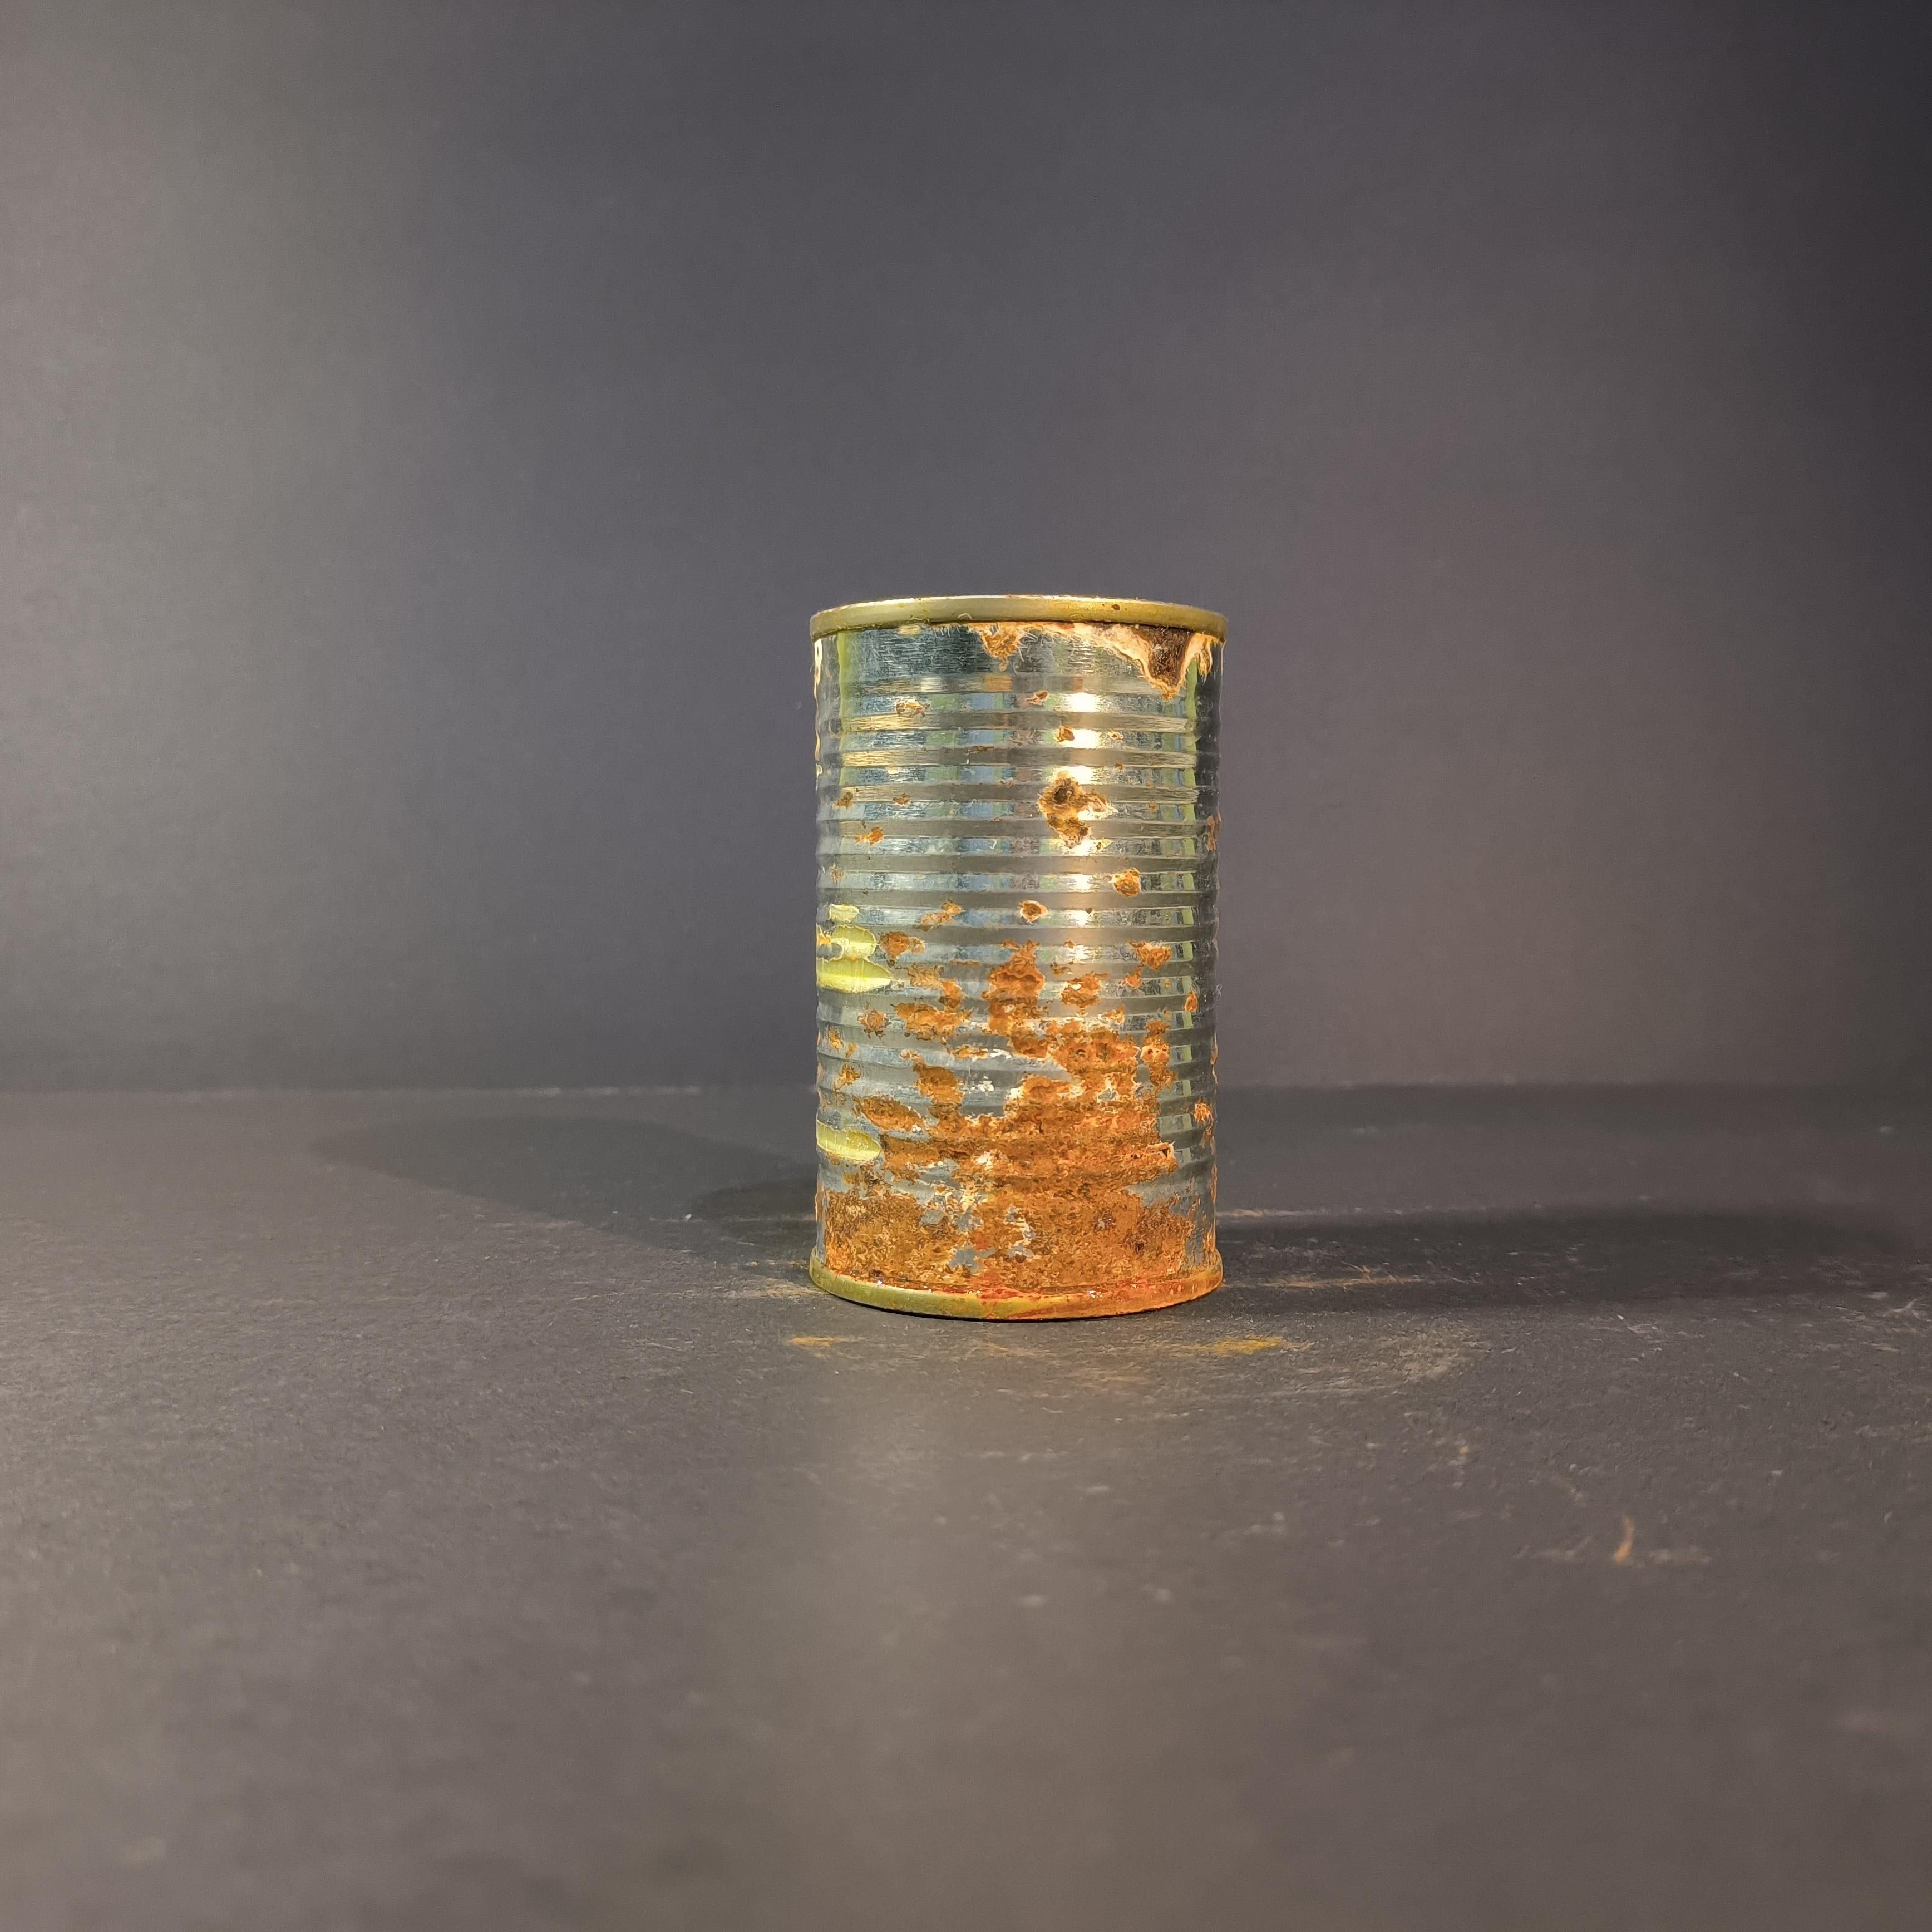Rusted: (784, 559, 1254, 1336)
